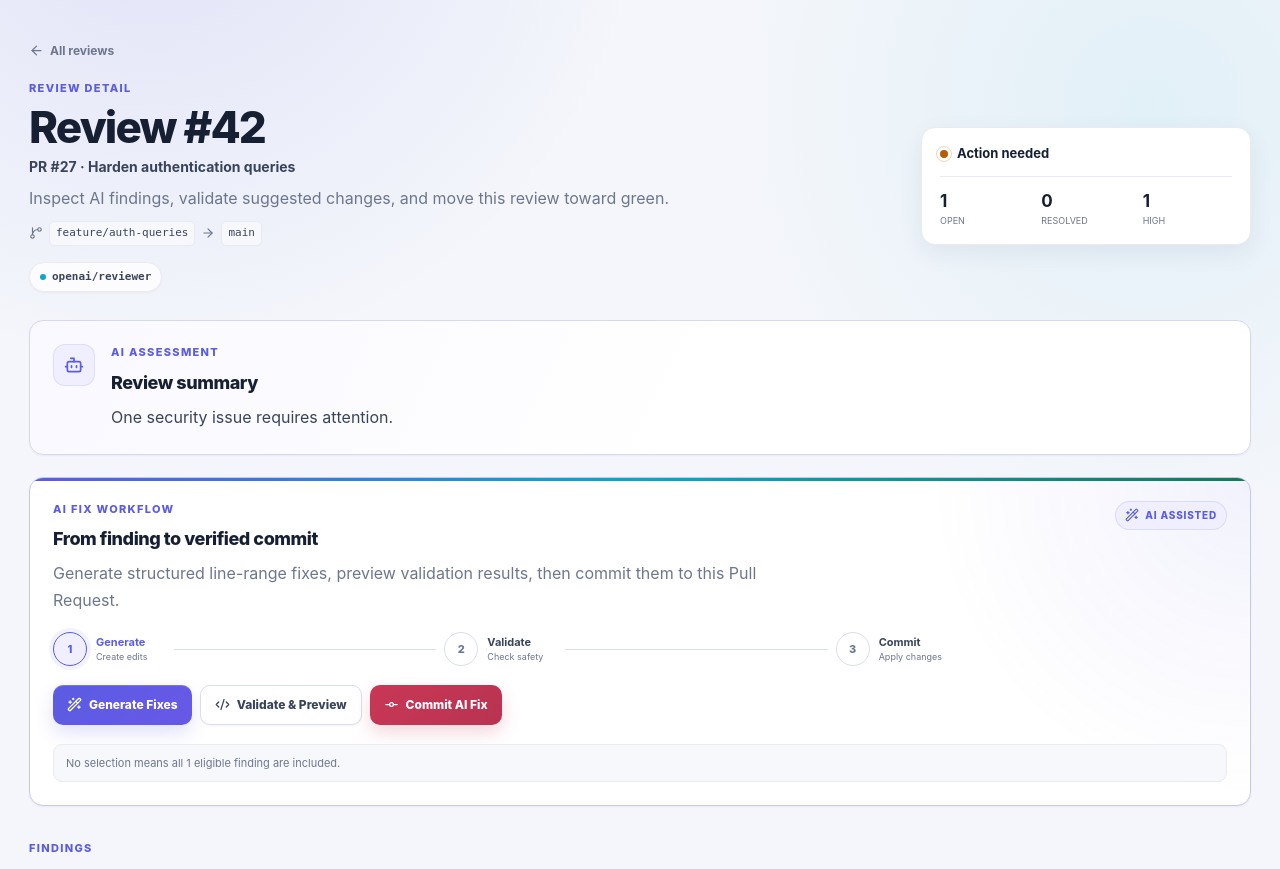
ReviewDetail › shows the loader on Commit while fixes are being committed
This screenshot has width=1280, height=869.
expect the heading "Review #42" is shown: met, box x1=29 y1=100 x2=265 y2=154
Click the button "Commit AI Fix" at (436, 705), box x1=370 y1=685 x2=502 y2=725
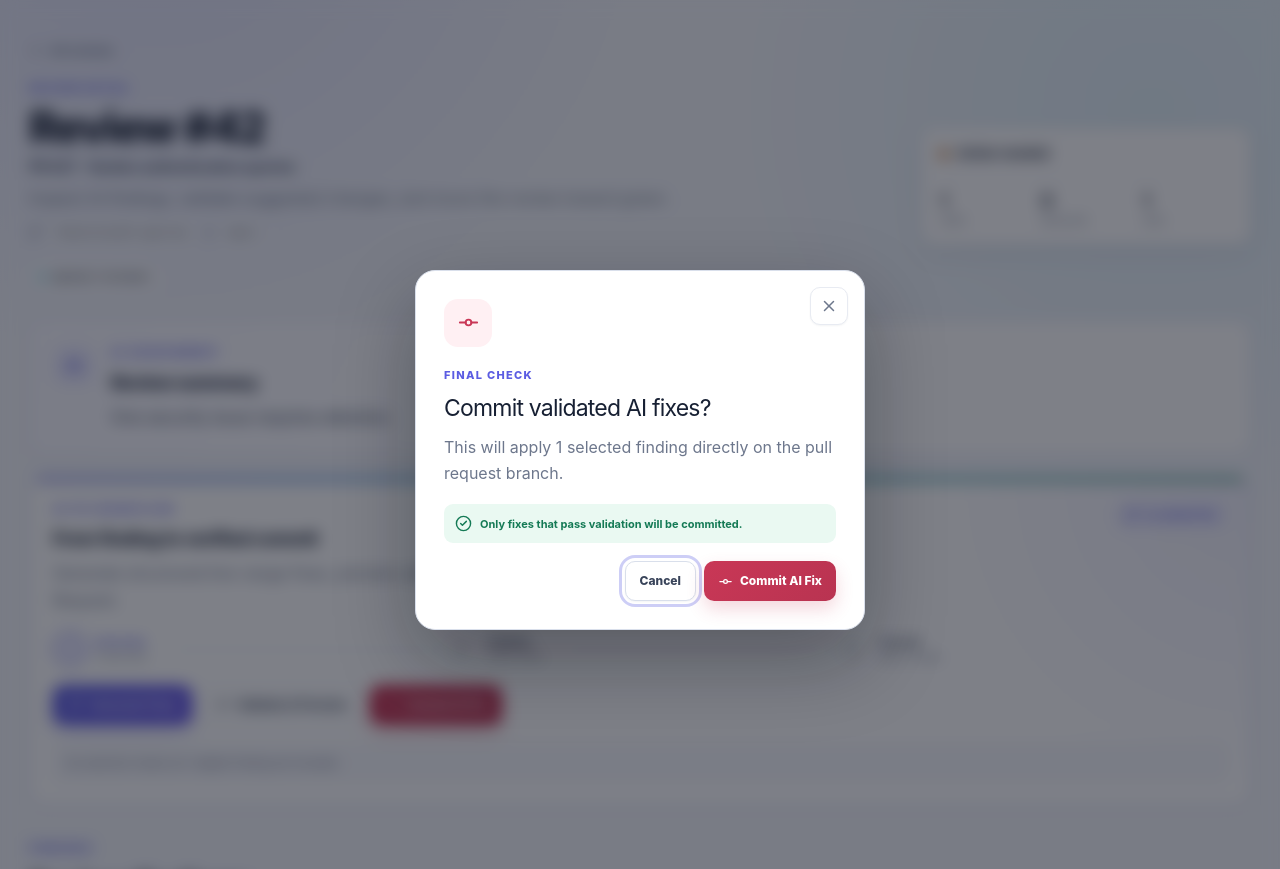
Click the button "Commit AI Fix" at (770, 581), box x1=704 y1=561 x2=836 y2=601
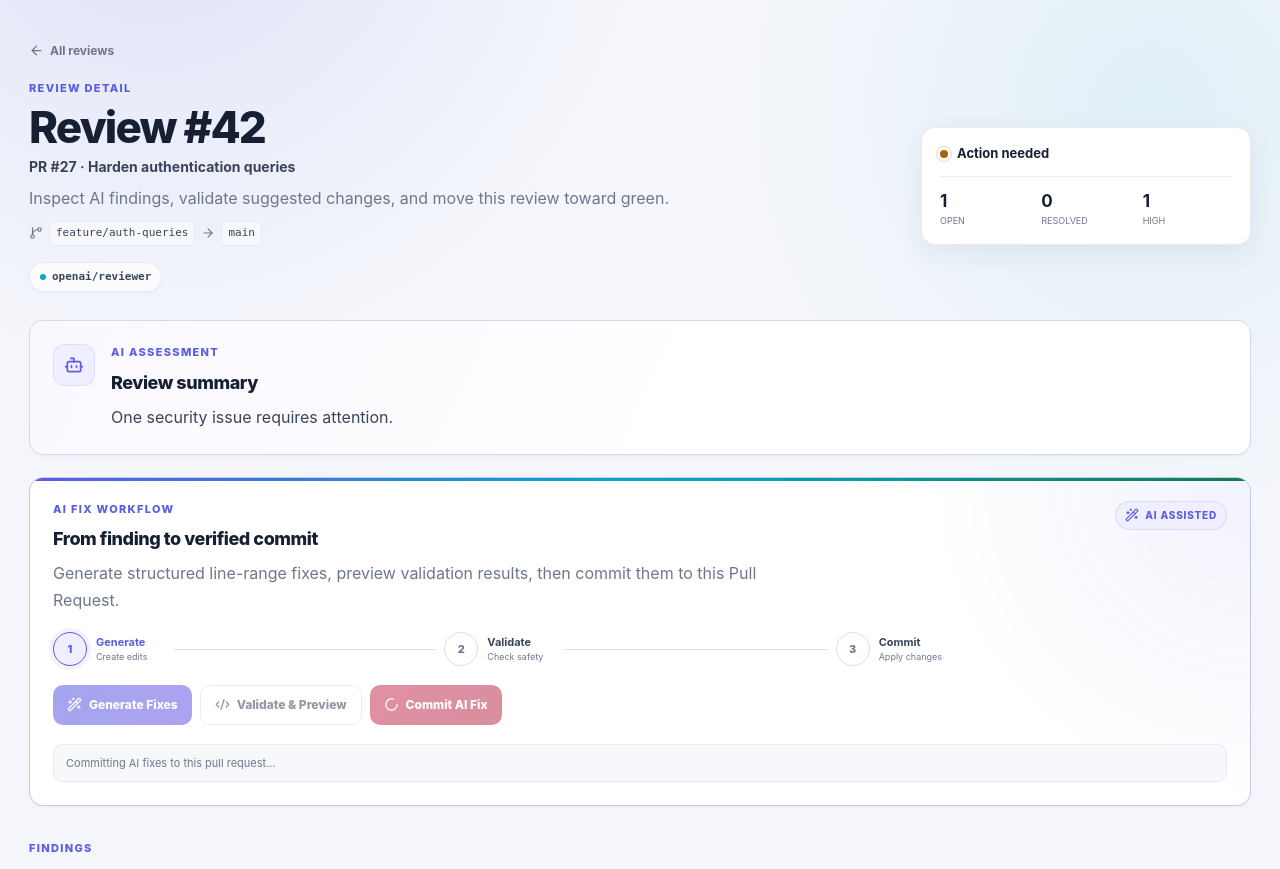
expect the icon with class "spin" is shown: met, box x1=384 y1=698 x2=398 y2=712
